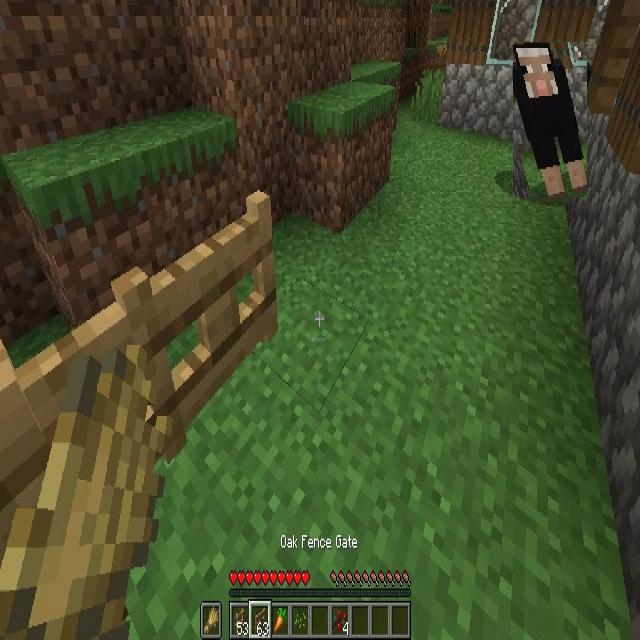sheep: (513, 42, 587, 198)
